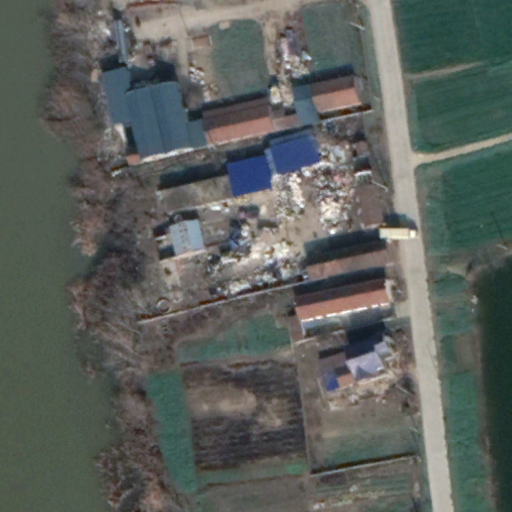msw: (214, 138, 360, 295)
